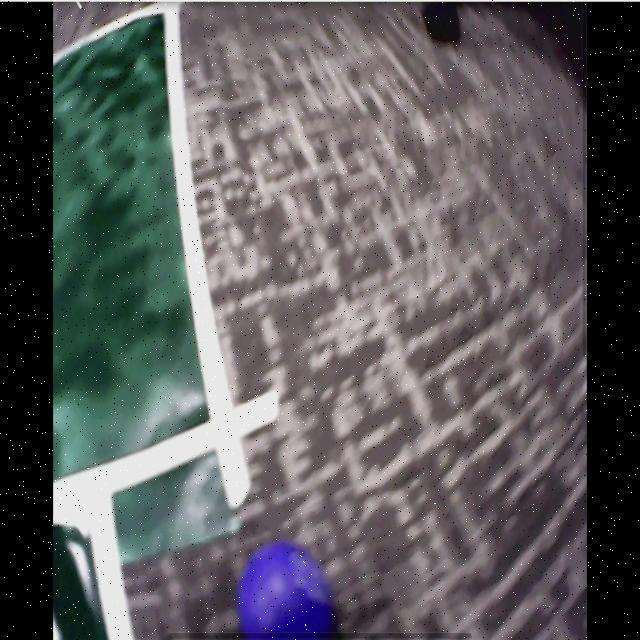ball: (239, 545, 332, 633)
